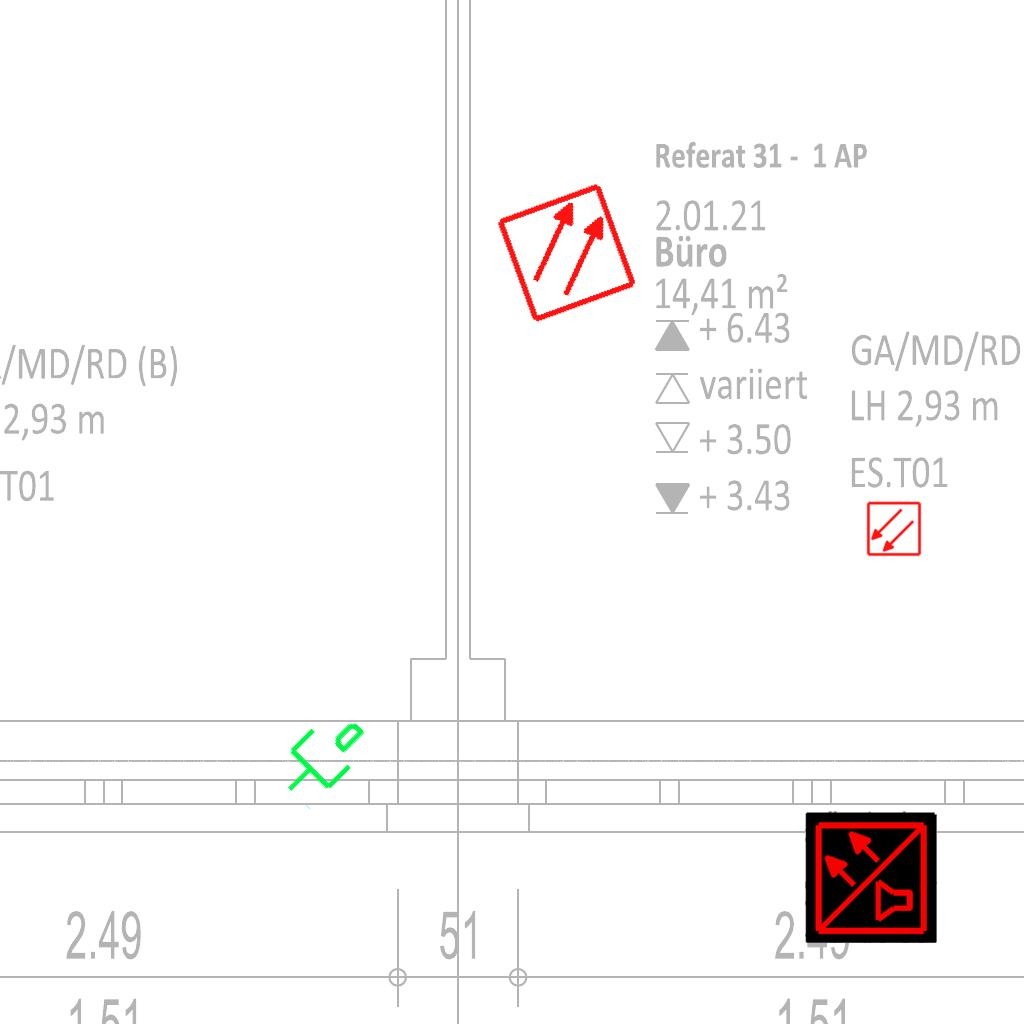Datenanschluss_einfach: (261, 695, 382, 815)
OKW_Multisensormelder_(Kombination_optischer_Rauch-Kahlenmonoxid_Waerme-Melder): (805, 811, 937, 943)
RMO_Rauchmelder_optischer: (494, 180, 639, 325), (866, 501, 922, 557)
